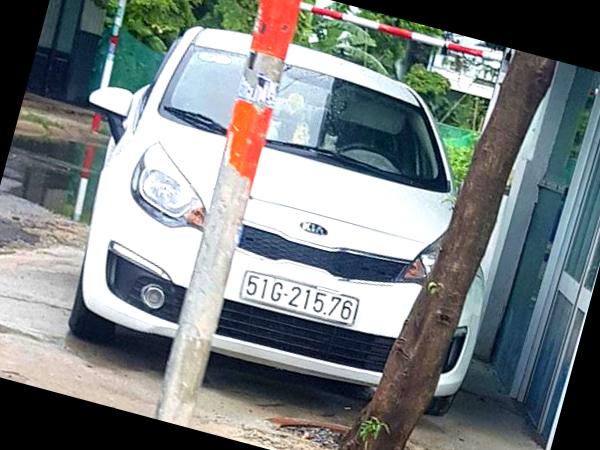lisence: (241, 271, 359, 326)
